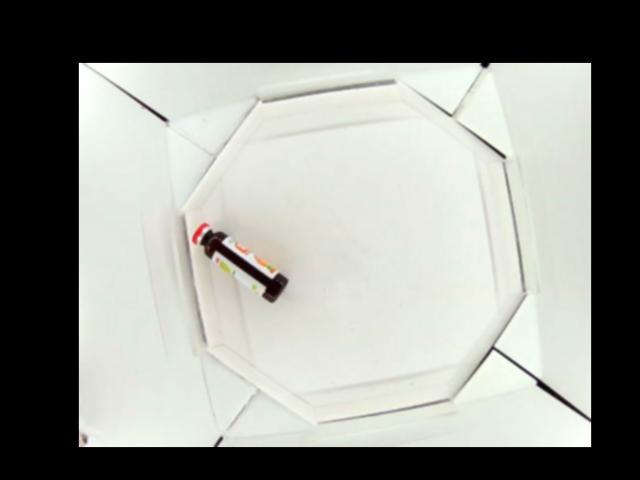Medicine: (191, 222, 288, 304)
